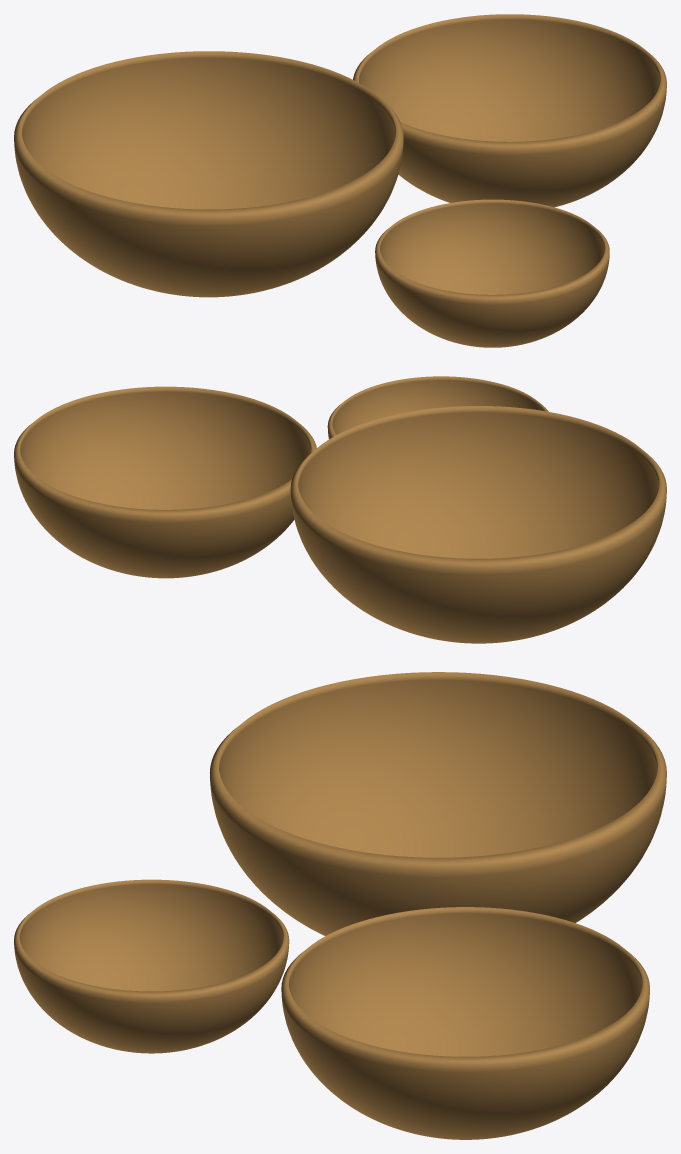
The model's file is calabash-bowls.glb.
3 renders of one model, top to bottom at view 1: azimuth 30°, elevation 25°; view 2: azimuth 150°, elevation 25°; view 3: azimuth 270°, elevation 25°, orthographic. The views are drawn at different scales.
Visible parts, largest first — view 1: Calabash bowl 1, Calabash bowl 2, Calabash bowl 3; view 2: Calabash bowl 1, Calabash bowl 2, Calabash bowl 3; view 3: Calabash bowl 1, Calabash bowl 2, Calabash bowl 3.
Part boxes in pixels (<box>): Calabash bowl 1: <box>14,51,403,297</box>; Calabash bowl 2: <box>353,14,666,207</box>; Calabash bowl 3: <box>375,199,609,347</box>; Calabash bowl 1: <box>290,406,666,643</box>; Calabash bowl 2: <box>14,386,316,578</box>; Calabash bowl 3: <box>327,376,548,439</box>; Calabash bowl 1: <box>210,672,666,935</box>; Calabash bowl 2: <box>281,907,649,1139</box>; Calabash bowl 3: <box>14,879,289,1053</box>.
Bounding box in the file's own units: 3.06 × 0.728 × 2.39.
